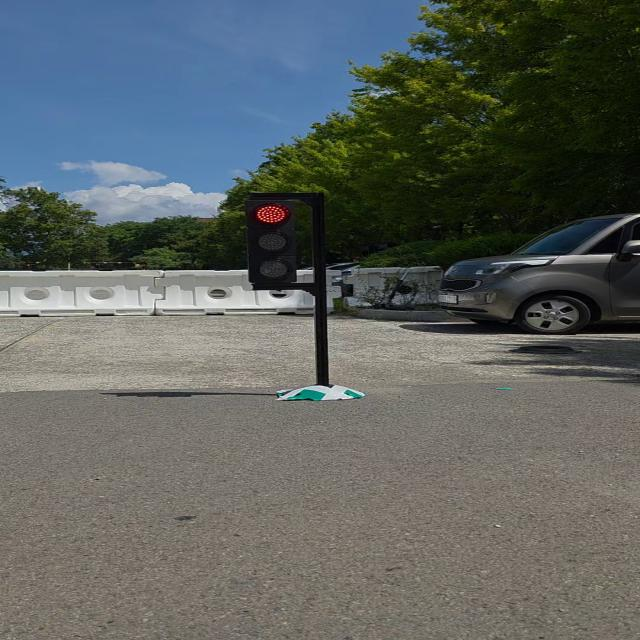red: (243, 196, 299, 287)
